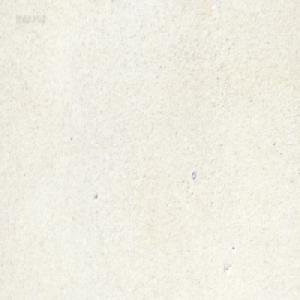Washer: (191, 170, 196, 179)
